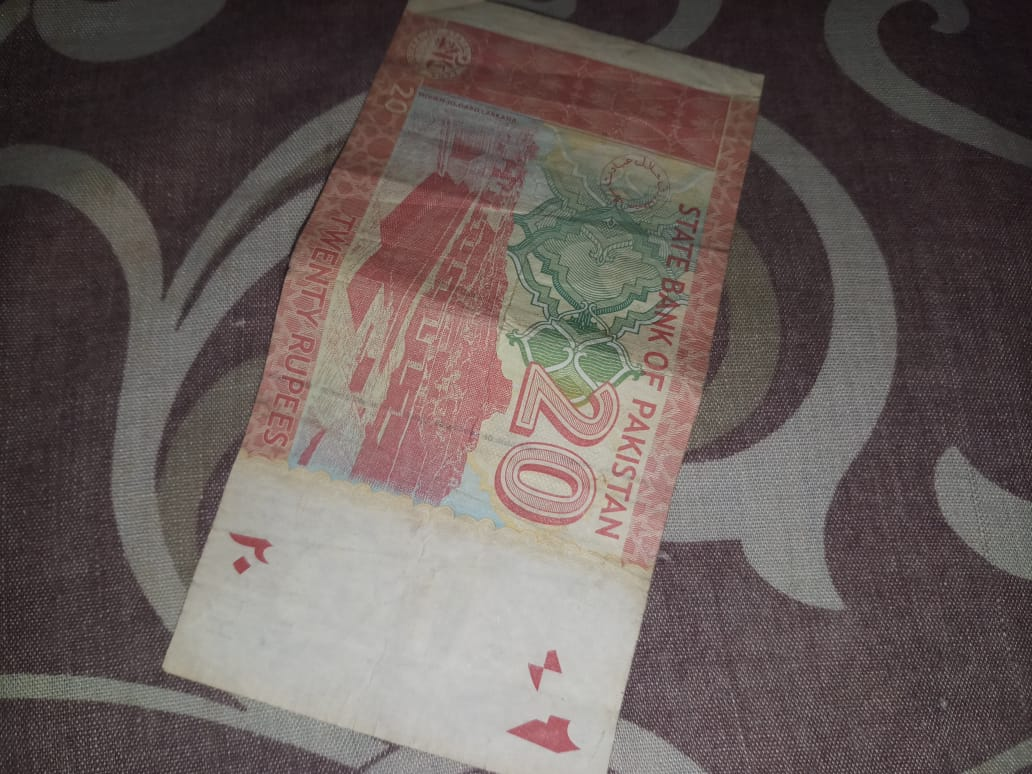20 rupee: (164, 15, 778, 774)
